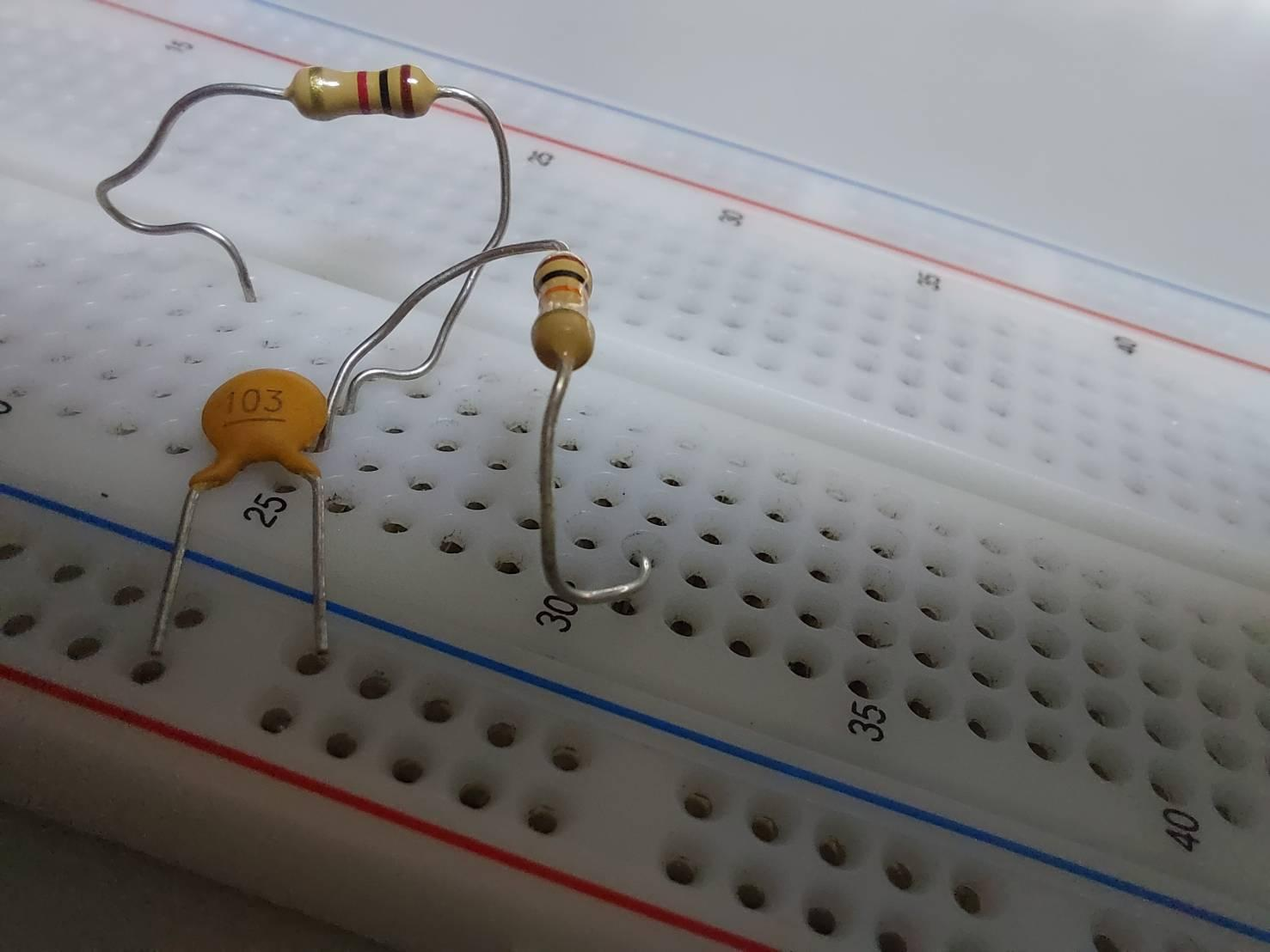resistor: (275, 56, 454, 129), (521, 239, 606, 383)
